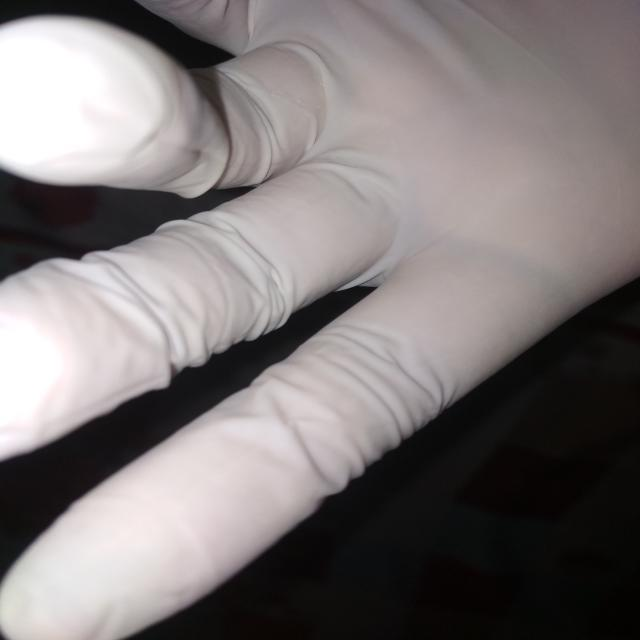gloved_hand: (5, 5, 638, 639)
